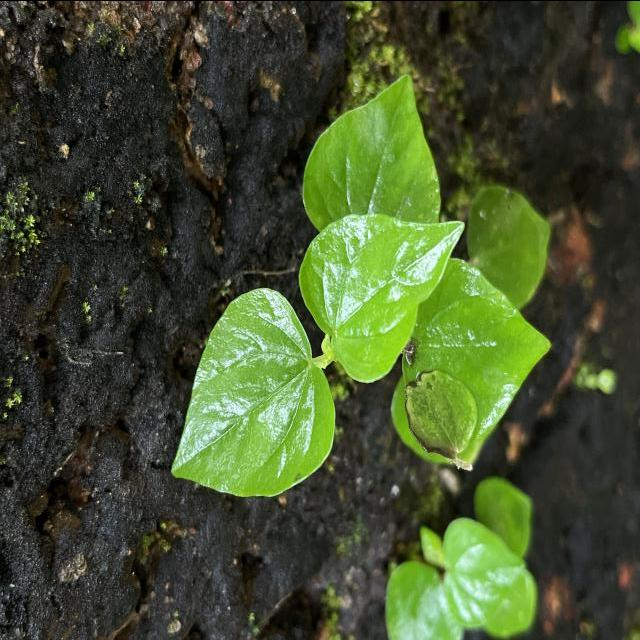Peperomia pellucida: (164, 281, 342, 504), (294, 205, 468, 388)
